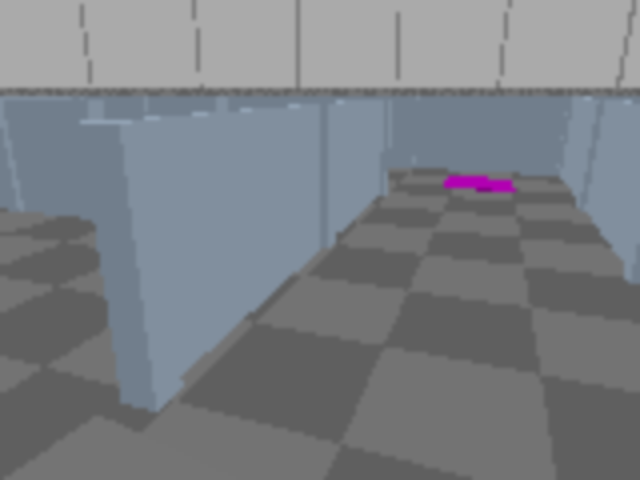goal_zone: (443, 176, 515, 193)
obstacle: (0, 415, 263, 478)
